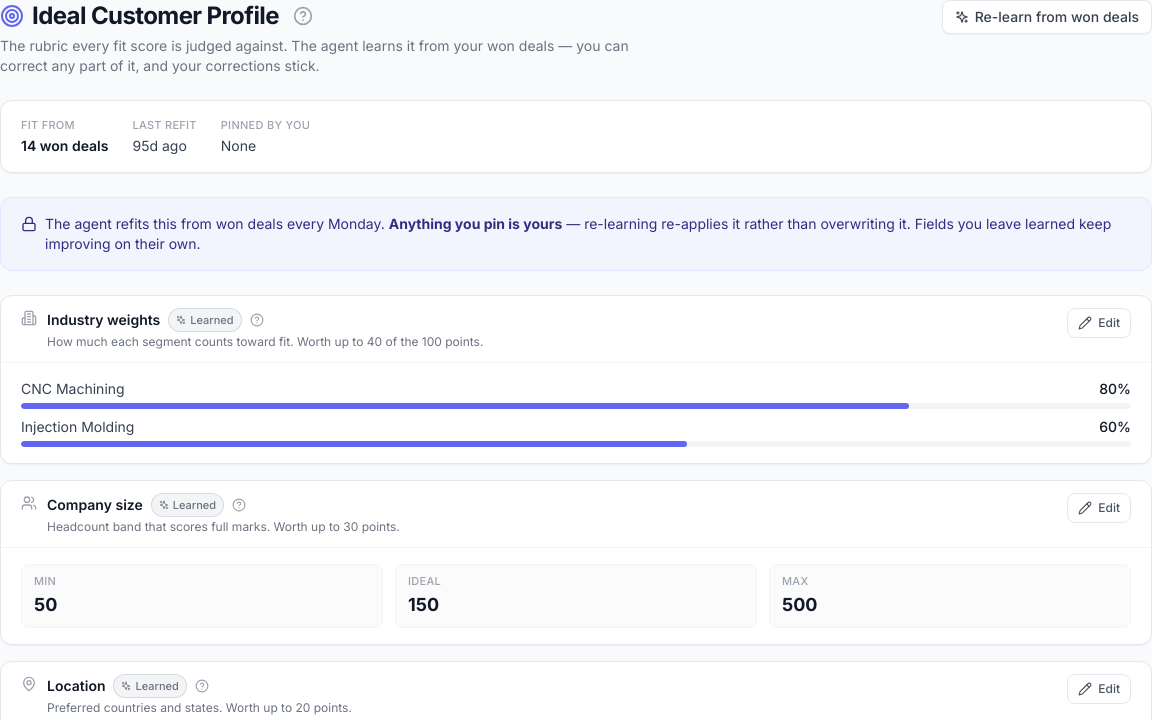
Test case: Icp page › warns that nothing is protected when nothing is pinned
The image size is (1152, 720).
expect the text "CNC Machining" is shown: met, box [21,378,125,398]
Click the button "Re-learn from won deals": point(1047, 17) [942,0,1151,34]
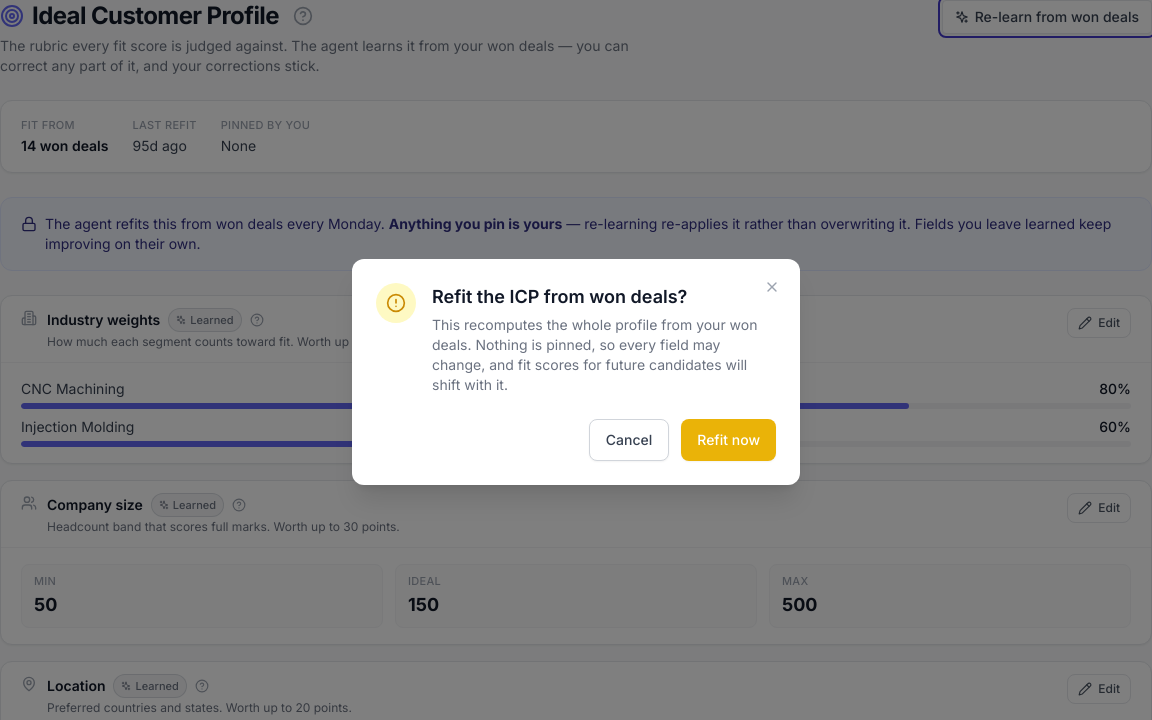
expect the text "Nothing is pinned, so every field may change" is shown: met, box [432,316,758,393]
